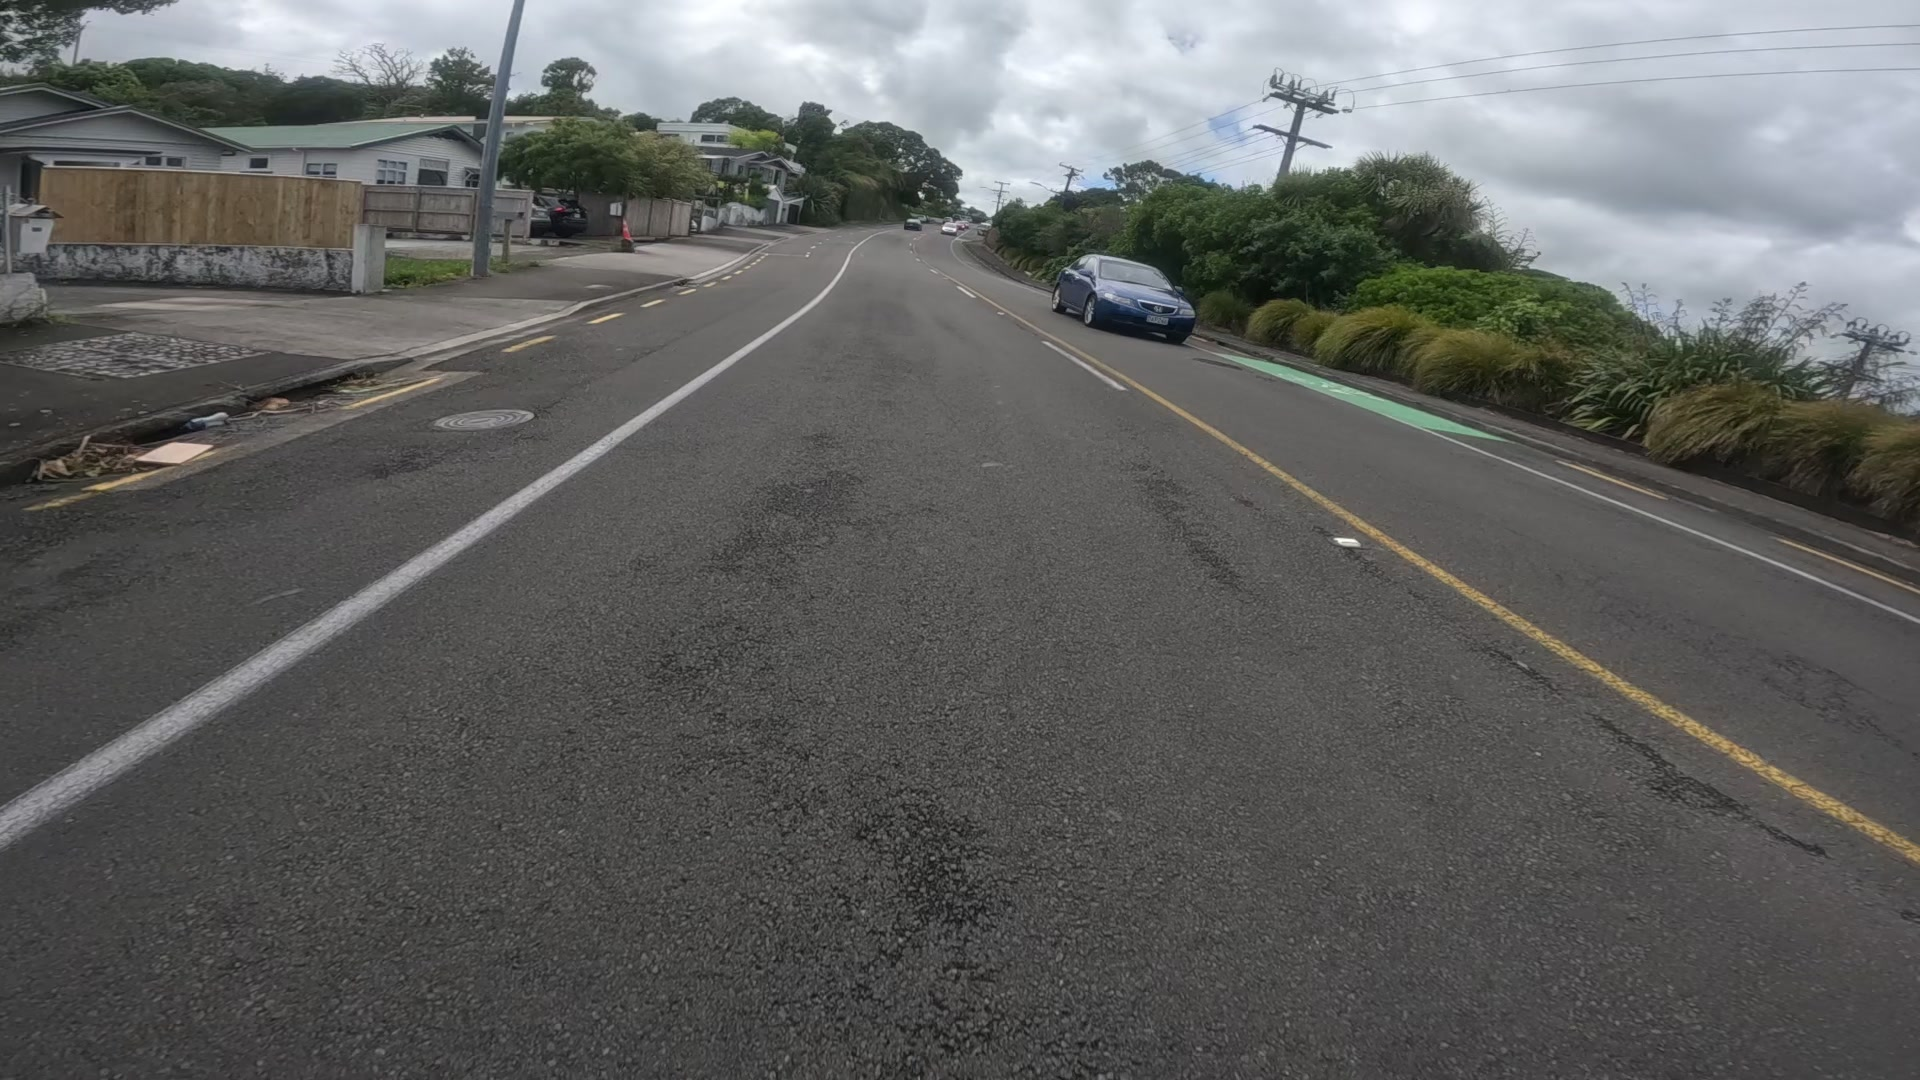Longitudinal_Cracking: (1367, 574, 1818, 870)
